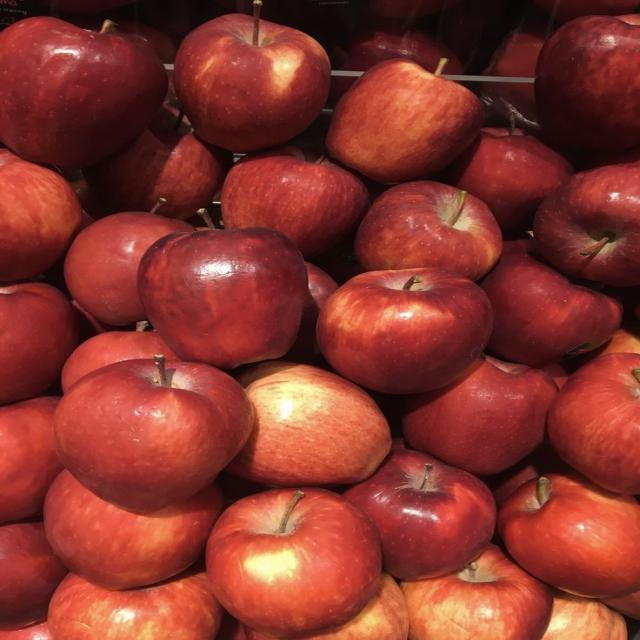apple: (54, 356, 253, 512), (207, 488, 381, 637), (0, 17, 167, 168), (138, 228, 307, 368), (317, 268, 493, 394), (174, 14, 330, 152), (44, 471, 224, 590), (227, 361, 391, 486), (344, 449, 495, 579), (327, 59, 482, 183), (402, 356, 557, 475), (498, 472, 639, 597), (83, 107, 231, 219), (221, 147, 369, 259), (481, 252, 622, 367), (64, 211, 193, 326), (354, 181, 501, 281), (401, 545, 552, 639), (535, 16, 639, 150), (446, 129, 573, 232), (534, 165, 639, 287), (548, 353, 639, 493), (48, 569, 223, 639), (0, 149, 81, 282), (0, 282, 78, 404), (61, 321, 177, 392), (0, 397, 63, 523), (338, 15, 464, 74), (0, 522, 67, 630), (481, 23, 550, 127), (300, 573, 408, 639), (483, 441, 569, 506), (285, 263, 338, 364), (542, 592, 627, 639), (115, 14, 177, 64), (534, 0, 638, 22), (581, 323, 639, 360), (371, 0, 456, 20), (582, 145, 639, 169), (44, 0, 133, 13), (601, 592, 639, 620), (0, 621, 53, 639)
